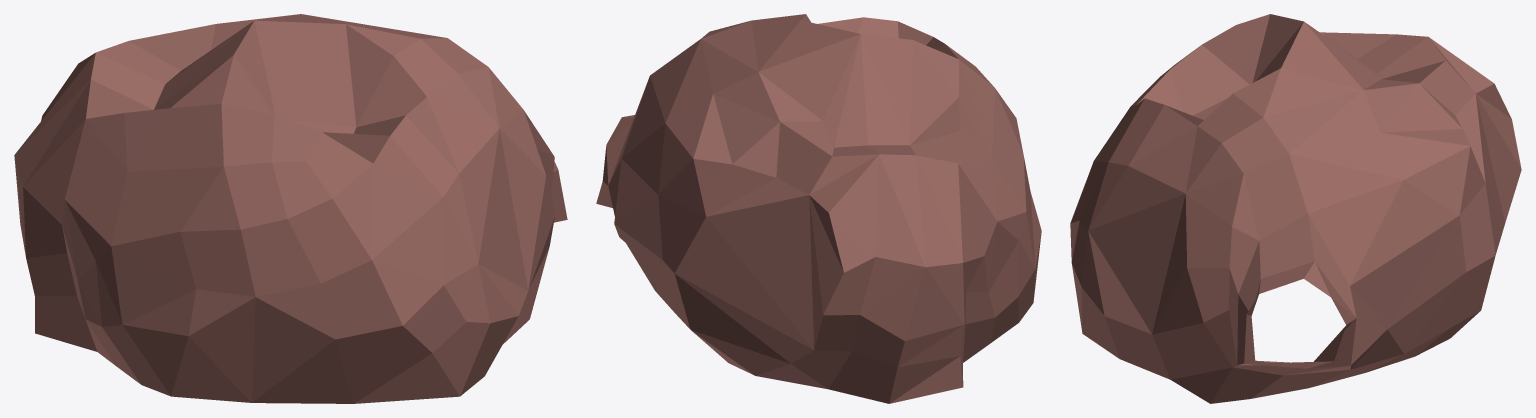
Rendered from Dome-1exit-04.fbx.
The picture shows the model from 3 angles, left to right: view 1: azimuth 30°, elevation 25°; view 2: azimuth 150°, elevation 25°; view 3: azimuth 270°, elevation 25°; orthographic projection. The views are drawn at different scales.
Parts seen in each view (by area): view 1: Dome-1exit-04; view 2: Dome-1exit-04; view 3: Dome-1exit-04.
Part boxes in pixels (x1=…): Dome-1exit-04: x1=14, y1=14, x2=567, y2=403; Dome-1exit-04: x1=596, y1=14, x2=1041, y2=403; Dome-1exit-04: x1=1070, y1=14, x2=1521, y2=403.
Bounding box in the file's own units: 1820 × 1239 × 1746.
